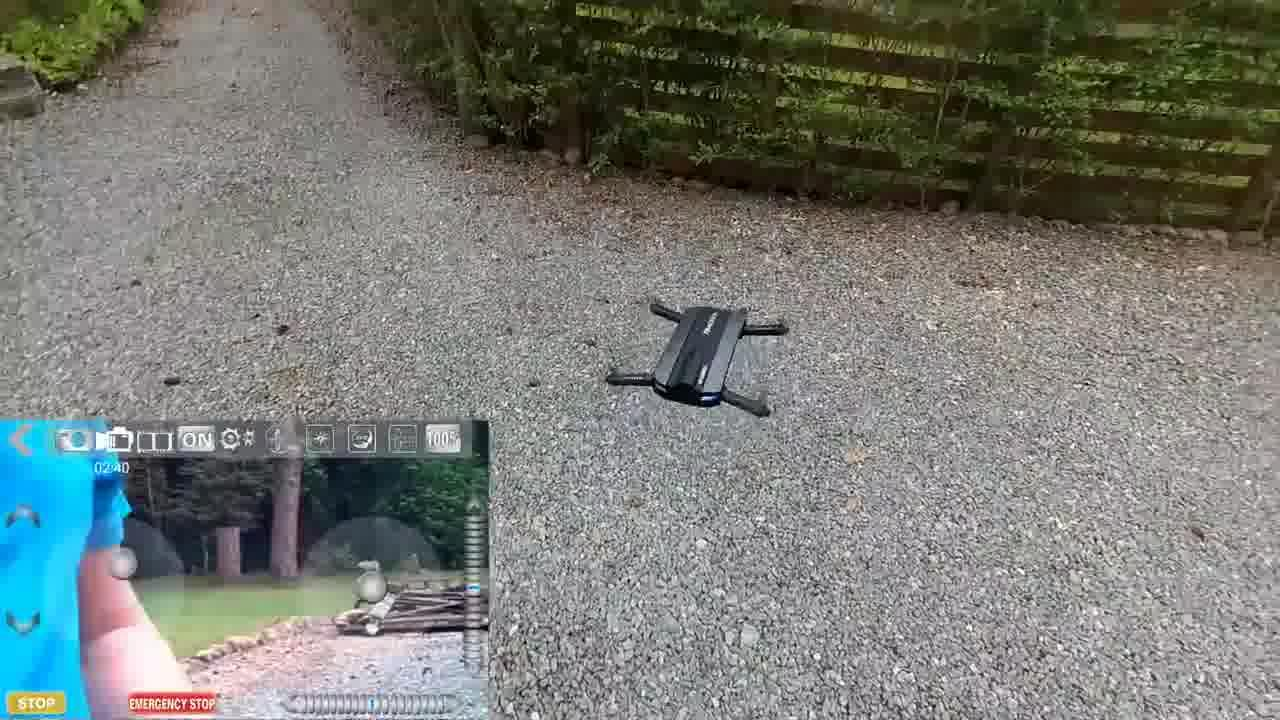drone: (593, 281, 802, 430)
